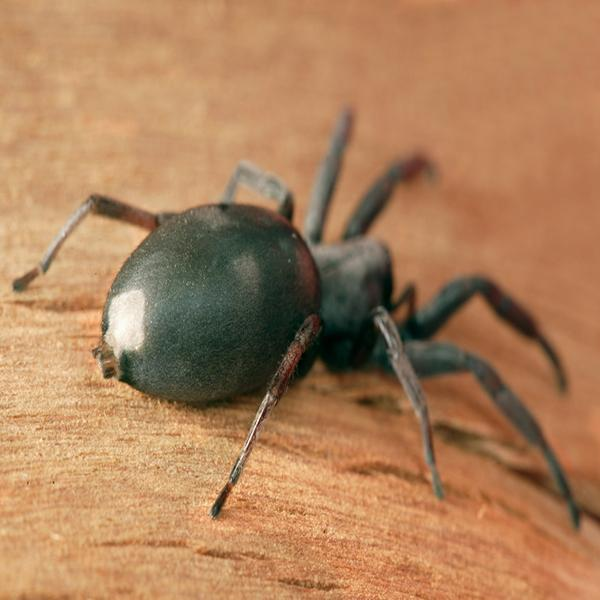White-Tailed_Spider: (20, 106, 586, 527)
